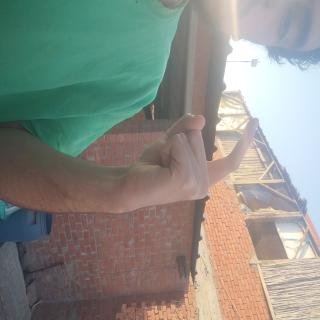RAA: (80, 78, 164, 278)
